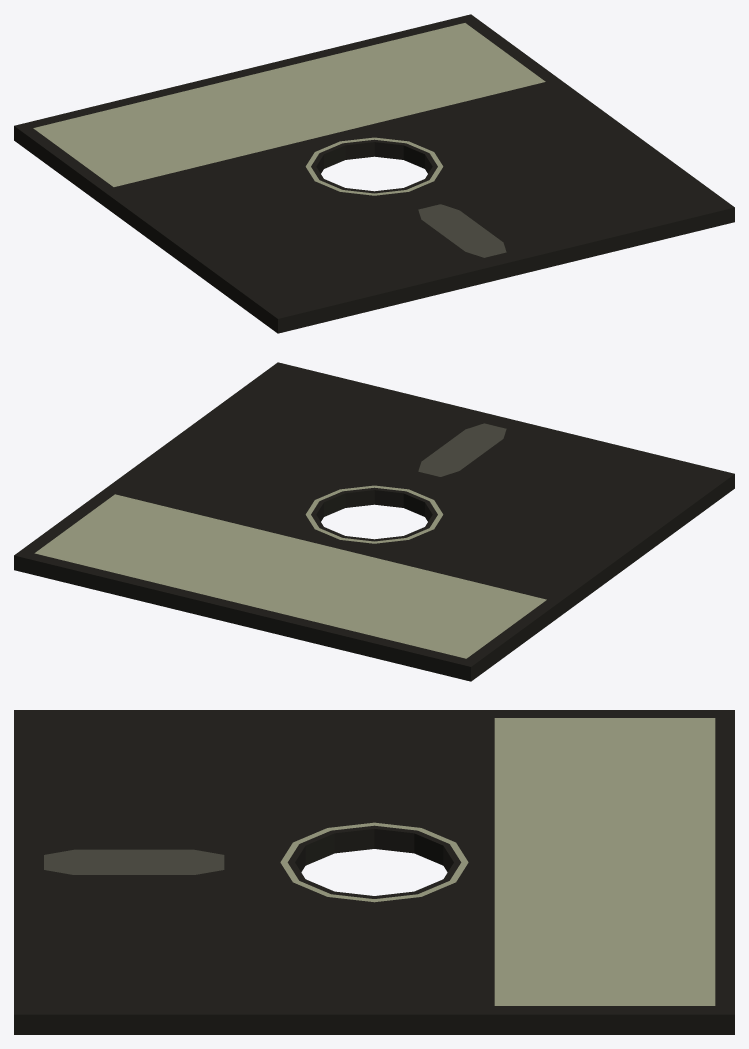
Rendered from FloppyDiscBlack.fbx.
The picture shows the model from 3 angles, top to bottom: view 1: azimuth 30°, elevation 25°; view 2: azimuth 150°, elevation 25°; view 3: azimuth 270°, elevation 25°; orthographic projection. The views are drawn at different scales.
Visible parts, largest first — view 1: 5.25FloppyDiskBlack; view 2: 5.25FloppyDiskBlack; view 3: 5.25FloppyDiskBlack.
Boxes of the visible parts, x1=… form: 5.25FloppyDiskBlack: x1=14, y1=14, x2=734, y2=333; 5.25FloppyDiskBlack: x1=14, y1=362, x2=734, y2=681; 5.25FloppyDiskBlack: x1=14, y1=710, x2=734, y2=1034.
Size of the model in its own units: 13.27 by 0.4085 by 13.27.
